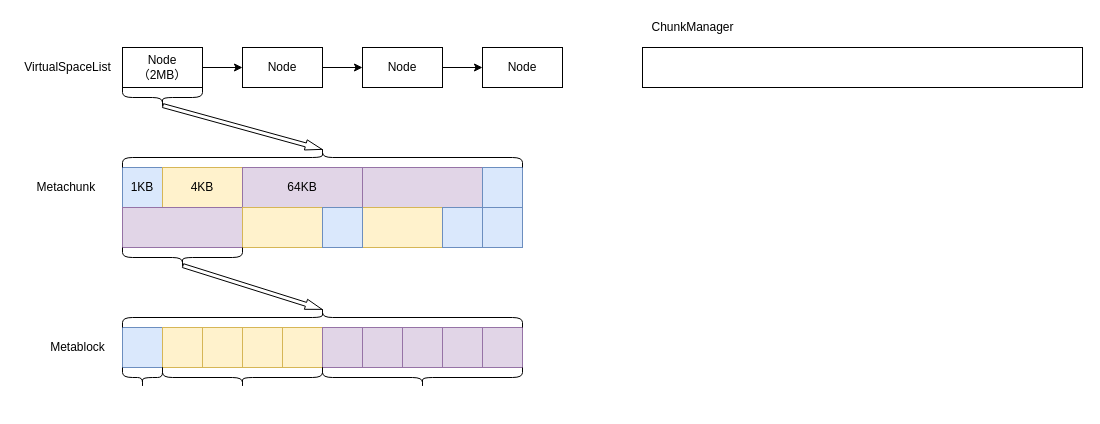
The diagram is 1100 pixels wide and 424 high, and some of its shapes have lost their labels. Each missing label, with the centre of its shape:
header: [142,377]
已分配的 Metablock: [242,377]
未分配的 Metablock: [422,377]
